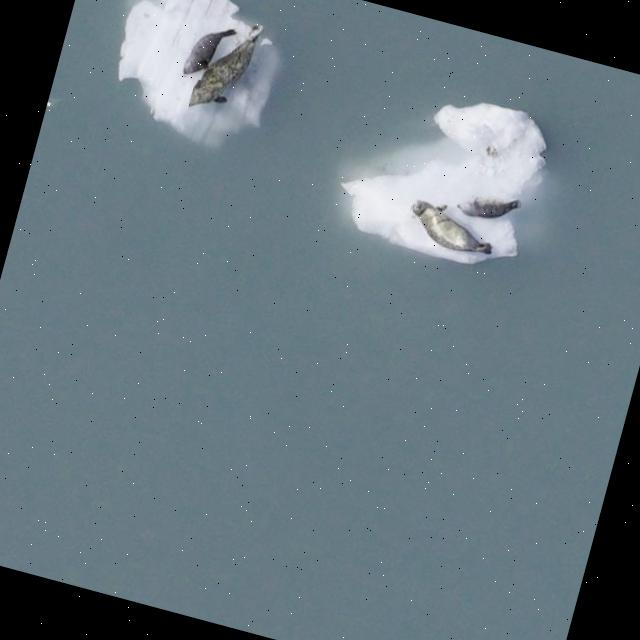seal: (181, 11, 270, 125), (402, 187, 496, 276), (173, 16, 238, 84), (454, 194, 519, 222)
